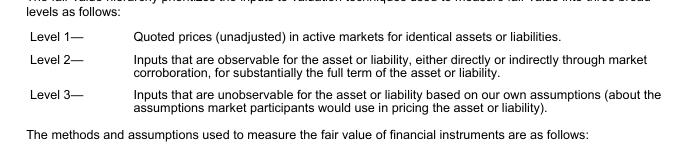table: (28, 28, 660, 113)
table column: (107, 28, 660, 113), (28, 28, 107, 113)
table row: (28, 47, 660, 82), (28, 82, 660, 113), (28, 28, 660, 47)
